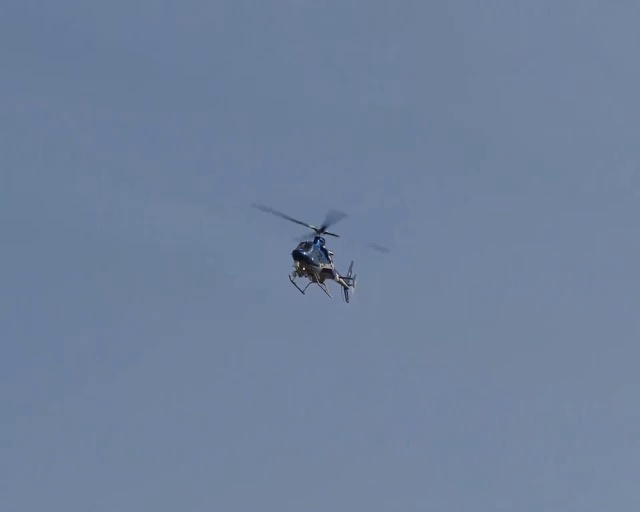HELICOPTER: (249, 200, 358, 303)
